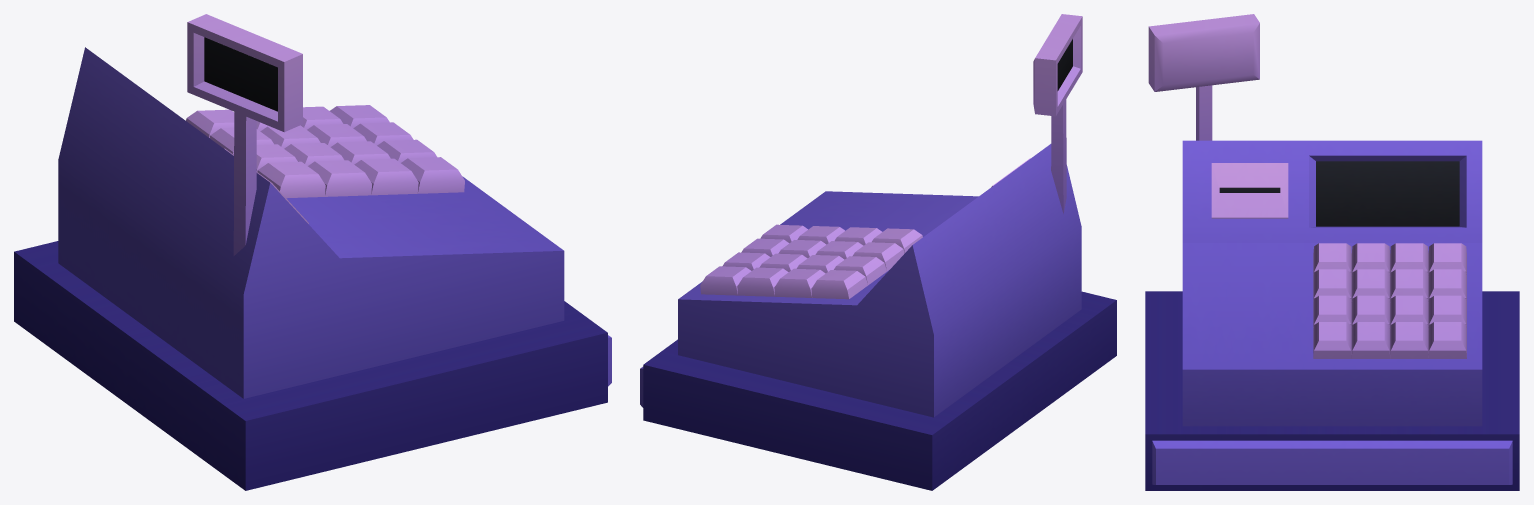
Rendered from CashRegister.fbx.
3 views of the same model, side by side, from view 1: azimuth 30°, elevation 25°; view 2: azimuth 150°, elevation 25°; view 3: azimuth 270°, elevation 25° (orthographic). The views are drawn at different scales.
Parts seen in each view (by area): view 1: CashRegister; view 2: CashRegister; view 3: CashRegister.
Part boxes in pixels (box(x1,y1,x2,y2)): CashRegister: box(14, 14, 611, 490); CashRegister: box(640, 14, 1116, 490); CashRegister: box(1145, 14, 1519, 490).
Size of the model in its own units: 55.8 by 60 by 59.69.
